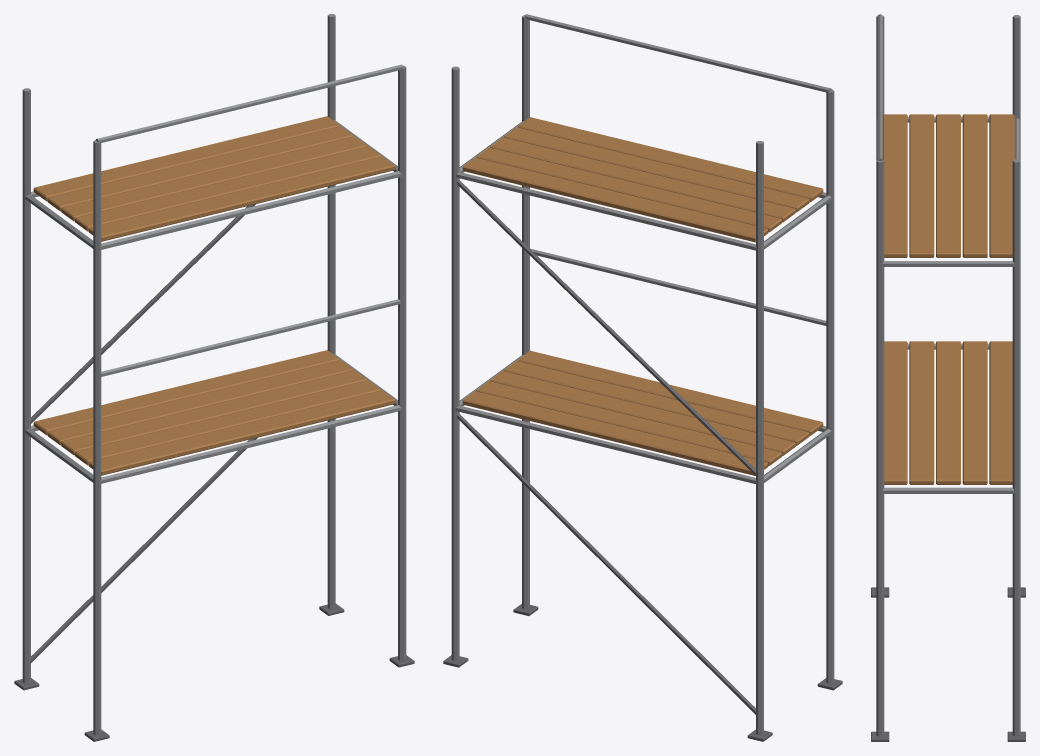
Rendered from scaffold.glb.
3 views of the same model, side by side, from view 1: azimuth 30°, elevation 25°; view 2: azimuth 150°, elevation 25°; view 3: azimuth 270°, elevation 25° (orthographic). The views are drawn at different scales.
Visible parts, largest first — view 1: scaffold; view 2: scaffold; view 3: scaffold.
Part boxes in pixels (<box>): scaffold: <box>14,14,414,741</box>; scaffold: <box>443,14,842,741</box>; scaffold: <box>871,14,1025,741</box>.
Bounding box in the file's own units: 3.16 × 5.62 × 1.36.
